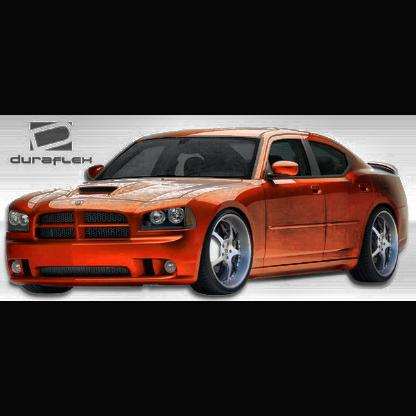Dodge Charger SRT-8 2009: (3, 127, 411, 301)
